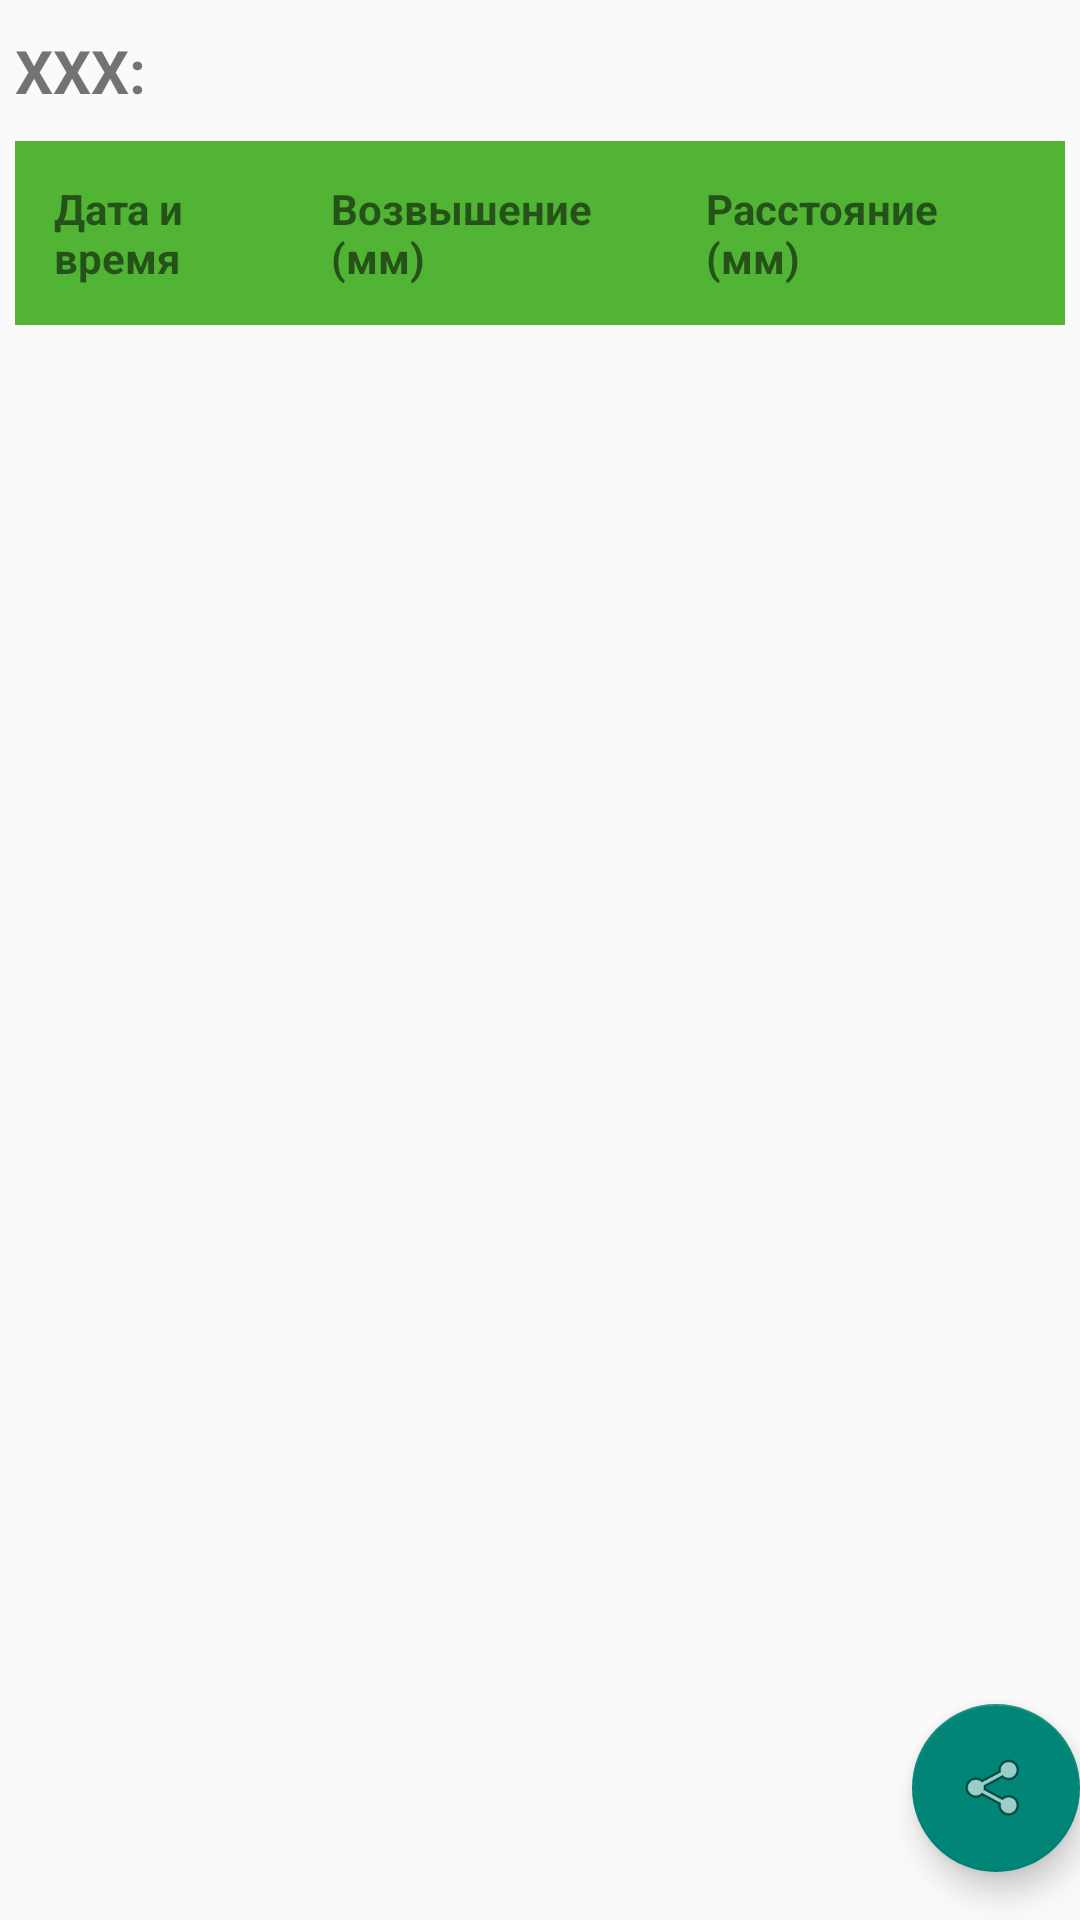

Icons on this 1080 x 1920 Android screen, each with the point to tap as (x,y):
share: (996,1788)
